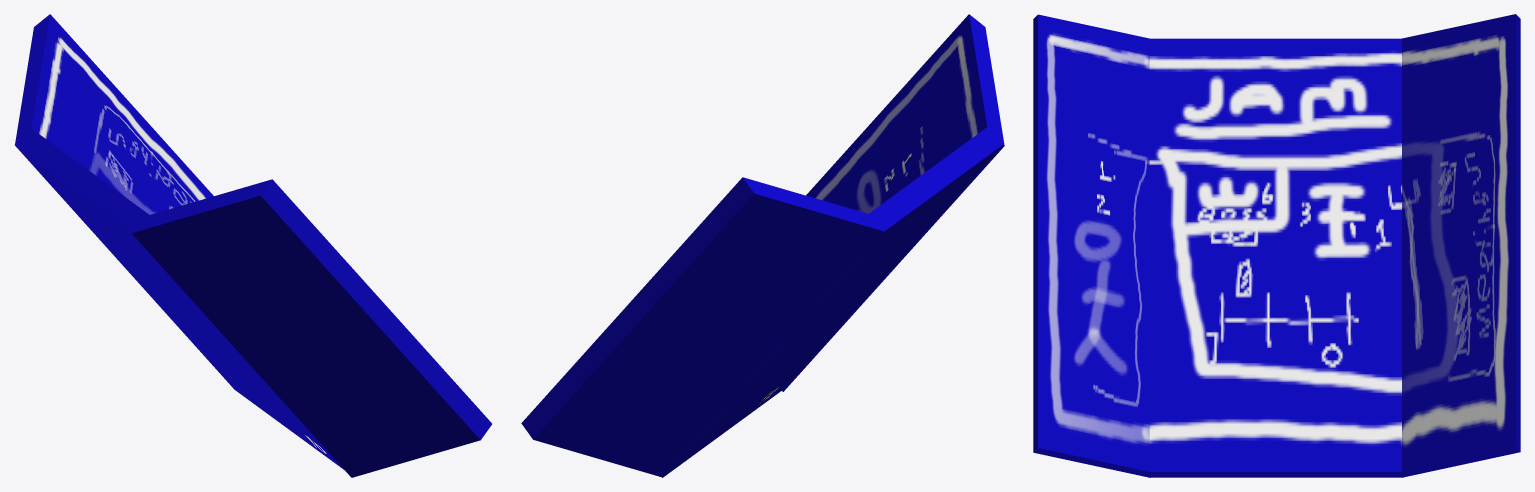
The model's file is Blue_Print.fbx.
3 renders of one model, left to right at view 1: azimuth 30°, elevation 25°; view 2: azimuth 150°, elevation 25°; view 3: azimuth 270°, elevation 25°, orthographic. The views are drawn at different scales.
Parts seen in each view (by area): view 1: Cube; view 2: Cube; view 3: Cube.
Boxes of the visible parts, left/top/right/bottom form: Cube: left=15, top=14, right=491, bottom=477; Cube: left=521, top=14, right=1004, bottom=477; Cube: left=1033, top=14, right=1520, bottom=477.
Size of the model in its own units: 139 by 159 by 178.
Materials: 1 (1 with a texture image).
